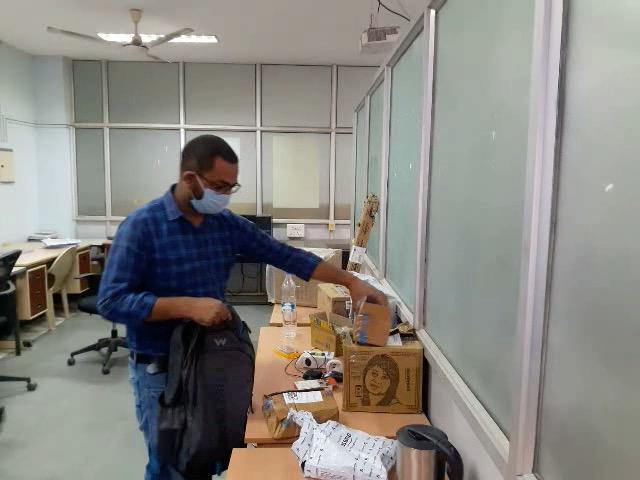shoplifting: (88, 221, 431, 480)
